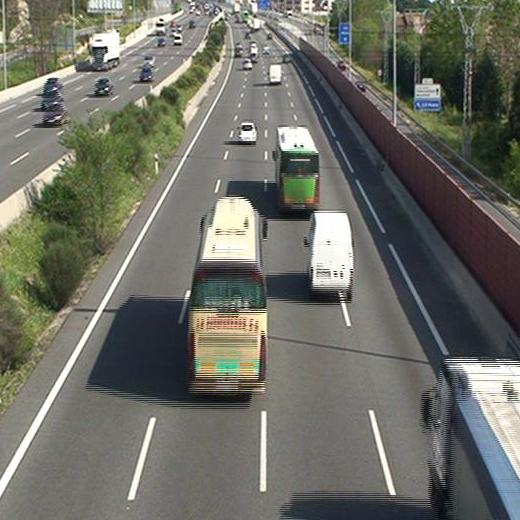bus: (187, 200, 265, 393), (275, 126, 319, 210)
car: (239, 123, 258, 142), (242, 58, 251, 69)
van: (306, 213, 353, 292), (269, 63, 282, 85)
